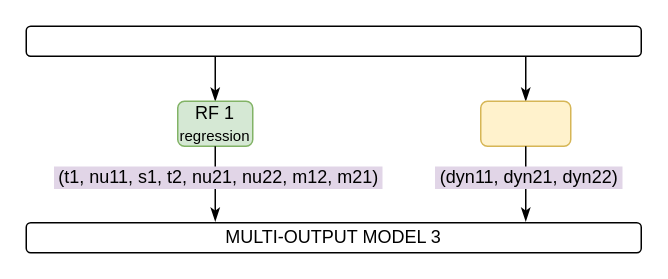
Some shapes in this 668 by 279 pixel diagram are drawn without their labels. The shapes that lost their labels are listed below. From the top down, each one's centre as x and y in pixels, then its label:
At (x=333, y=40): "Allele frequency spectrum".
At (x=525, y=123): "RF 2 classification".
